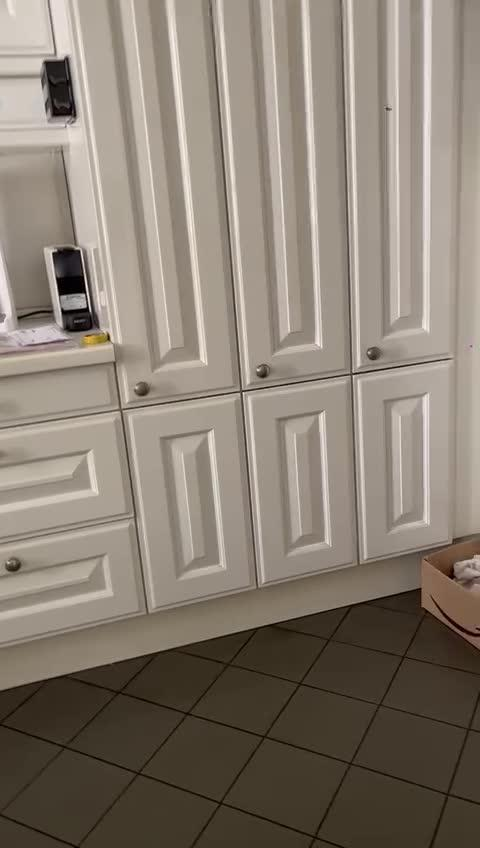cabinet_door: (105, 0, 229, 402), (229, 0, 354, 395), (350, 0, 459, 376)
handle: (126, 372, 158, 408), (250, 355, 278, 385), (3, 550, 29, 579), (361, 340, 386, 366)
